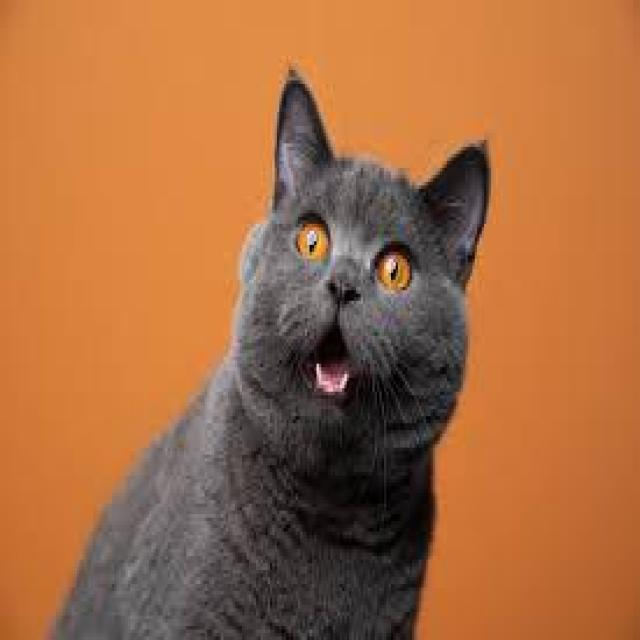Cat: (238, 53, 497, 443)
